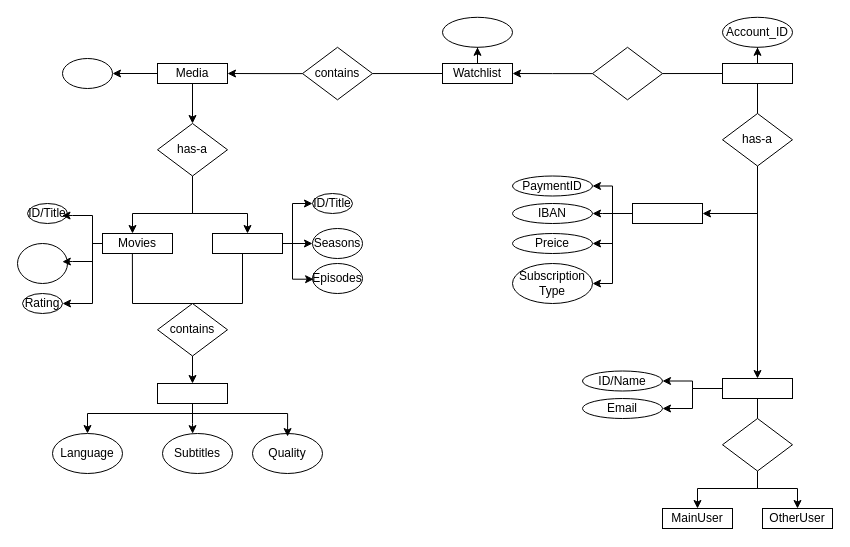
Some shapes in this 850 by 547 pixel diagram are drawn without their labels. Here are the shapes that lost their labels. From the top down, the box of each, then its label:
(442, 16, 512, 47): Watch_ID
(62, 58, 112, 88): Genre
(592, 46, 662, 100): watches
(722, 62, 792, 84): Account
(632, 202, 702, 224): Payement
(16, 242, 68, 284): Release Year
(212, 232, 282, 254): Series
(156, 382, 228, 404): Configuration
(722, 378, 792, 398): User
(722, 418, 792, 471): is-a
